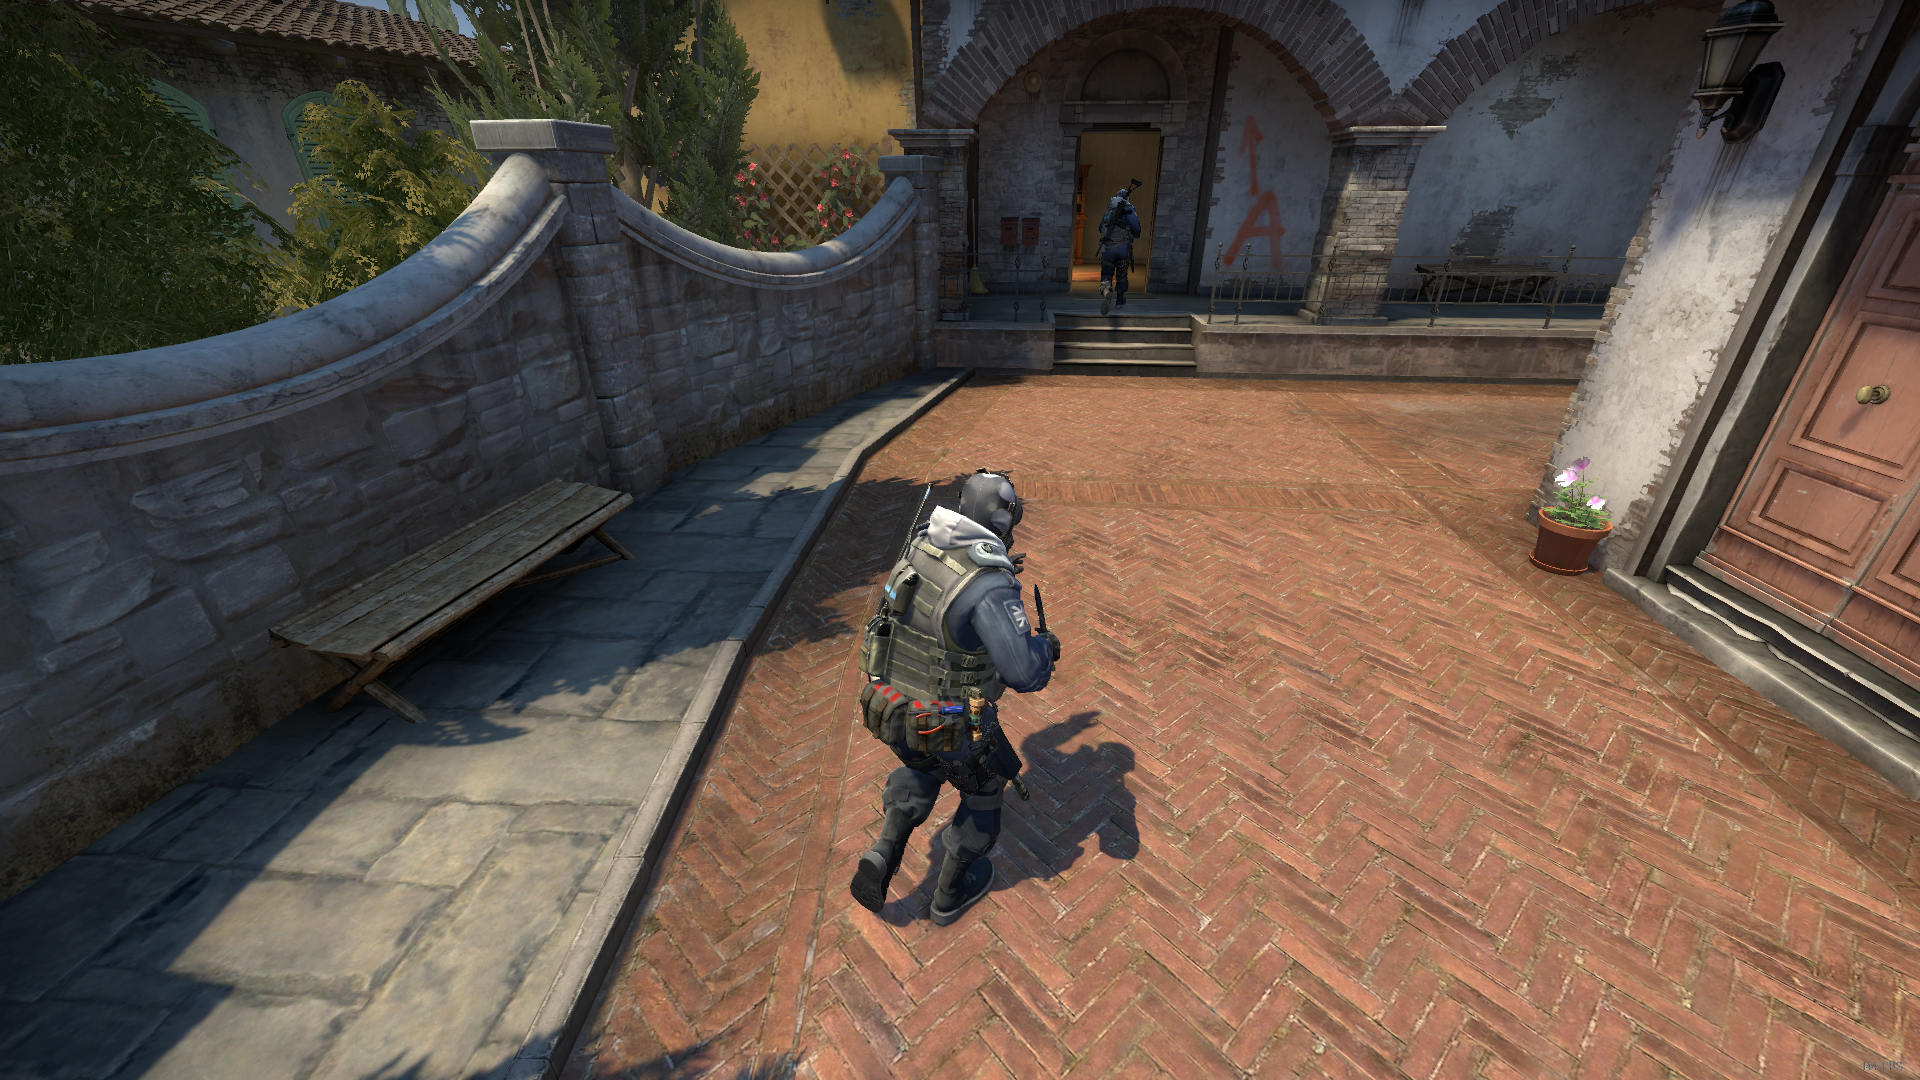ct: (851, 469, 1060, 926), (1095, 189, 1142, 319)
